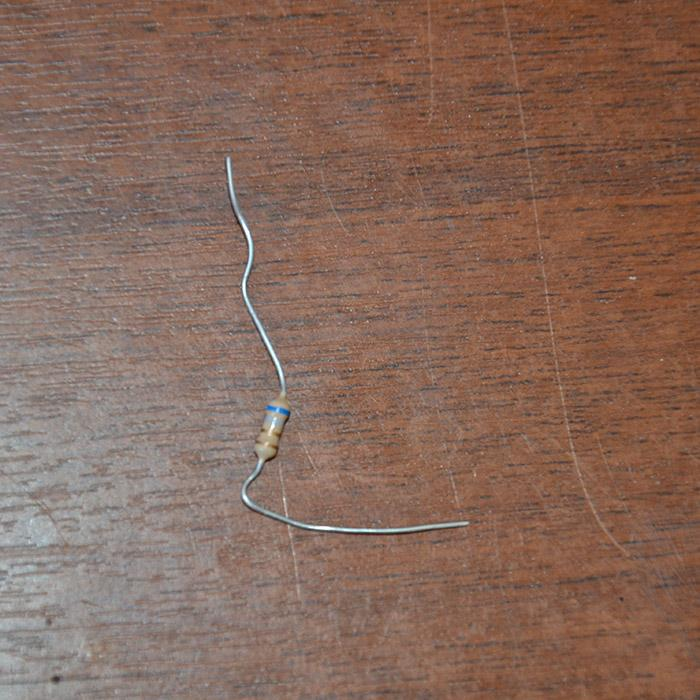resistor: (253, 392, 293, 463)
